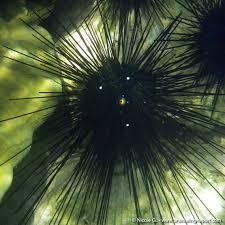urchin: (10, 31, 225, 216)
